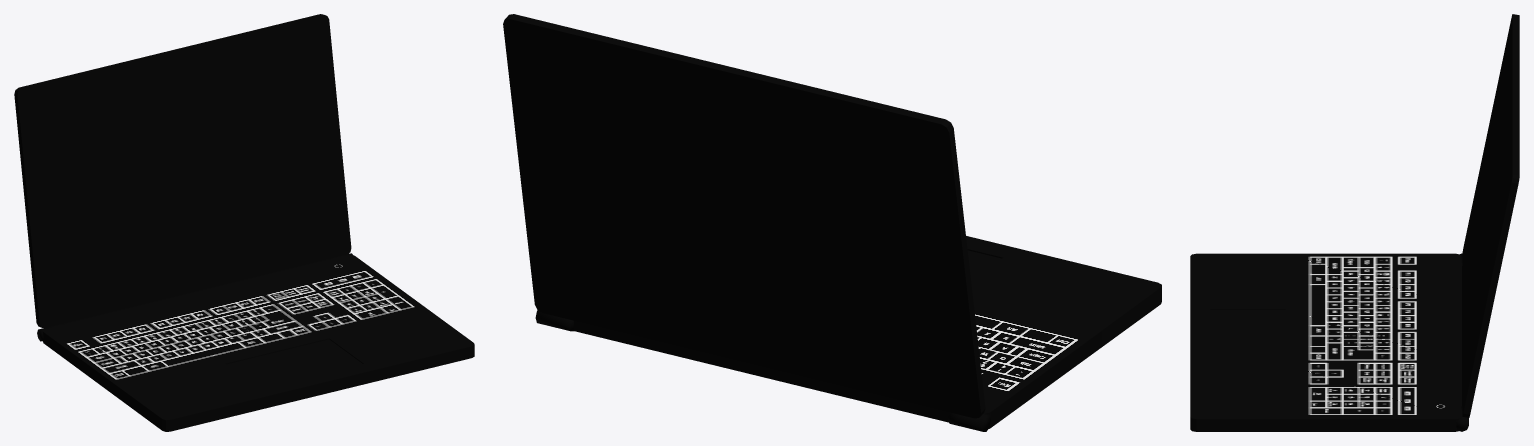
The model's file is Laptop.fbx.
3 views of the same model, side by side, from view 1: azimuth 30°, elevation 25°; view 2: azimuth 150°, elevation 25°; view 3: azimuth 270°, elevation 25° (orthographic). The views are drawn at different scales.
Parts seen in each view (by area): view 1: Lid, Base; view 2: Lid, Base; view 3: Base, Lid.
Boxes of the visible parts, x1=… form: Lid: x1=14, y1=14, x2=351, y2=328; Base: x1=37, y1=253, x2=474, y2=431; Lid: x1=503, y1=14, x2=985, y2=418; Base: x1=535, y1=236, x2=1161, y2=431; Base: x1=1190, y1=253, x2=1468, y2=431; Lid: x1=1462, y1=14, x2=1519, y2=417.
Size of the model in its own units: 36.03 by 25.86 by 30.3.
